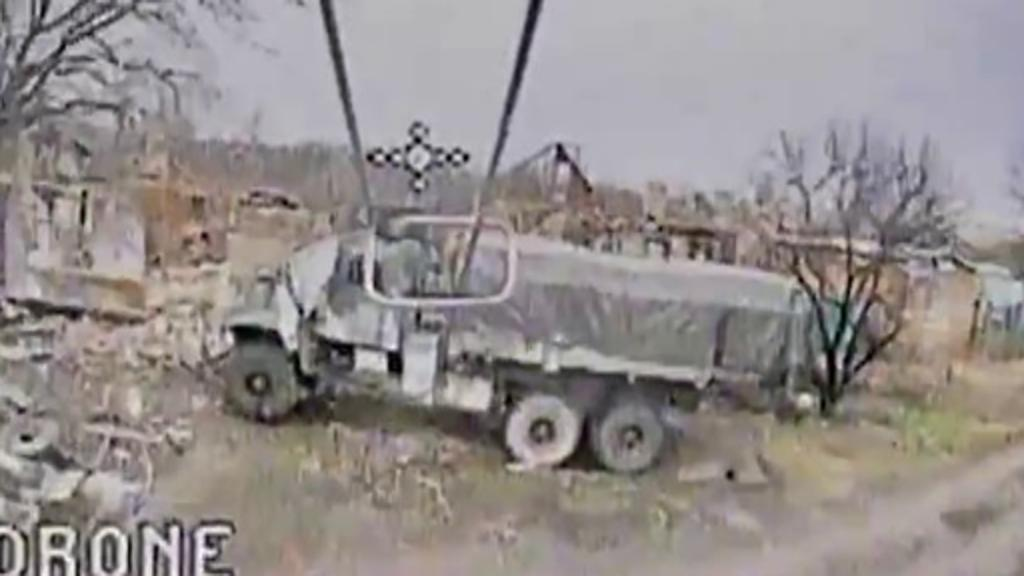TRUCK: (180, 208, 804, 482)
